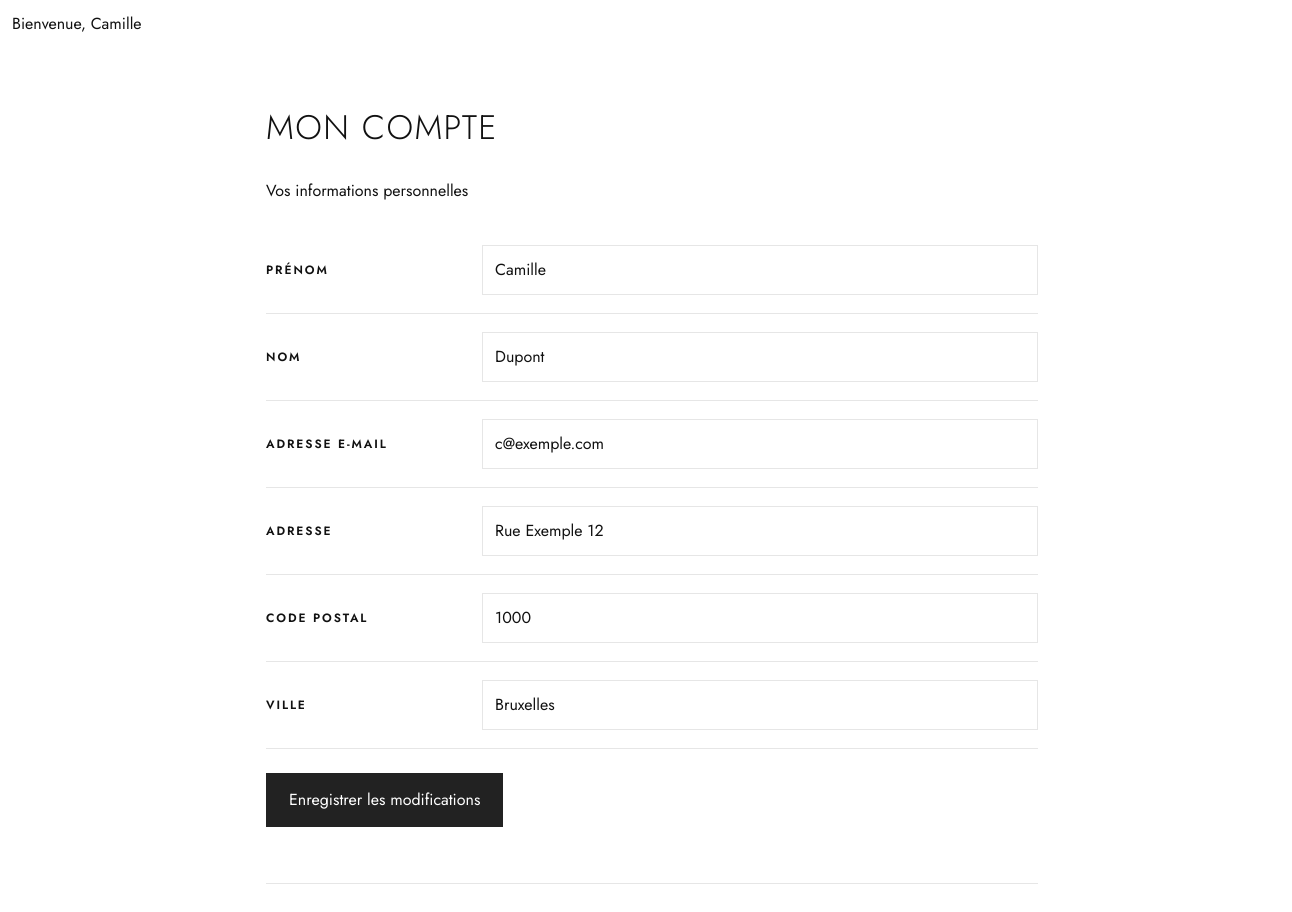
US6 › garde les modifications après une erreur et permet de réessayer
Replace the text in the field labelled "Ville" with "Gand". click: x=760, y=705
box: [482,680,1038,730]
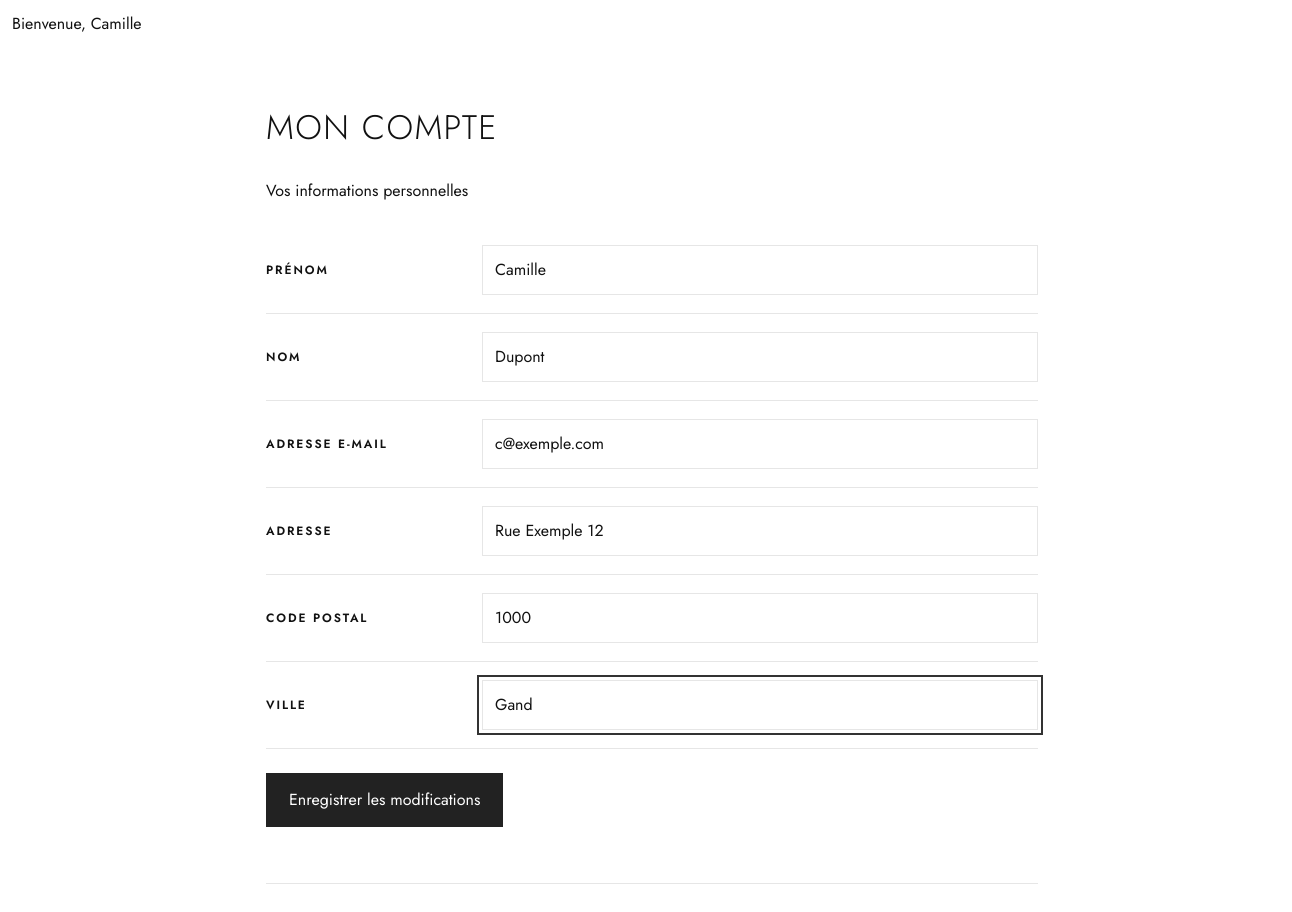
Click the button "Enregistrer les modifications". click: x=385, y=800
box: [266,773,503,827]
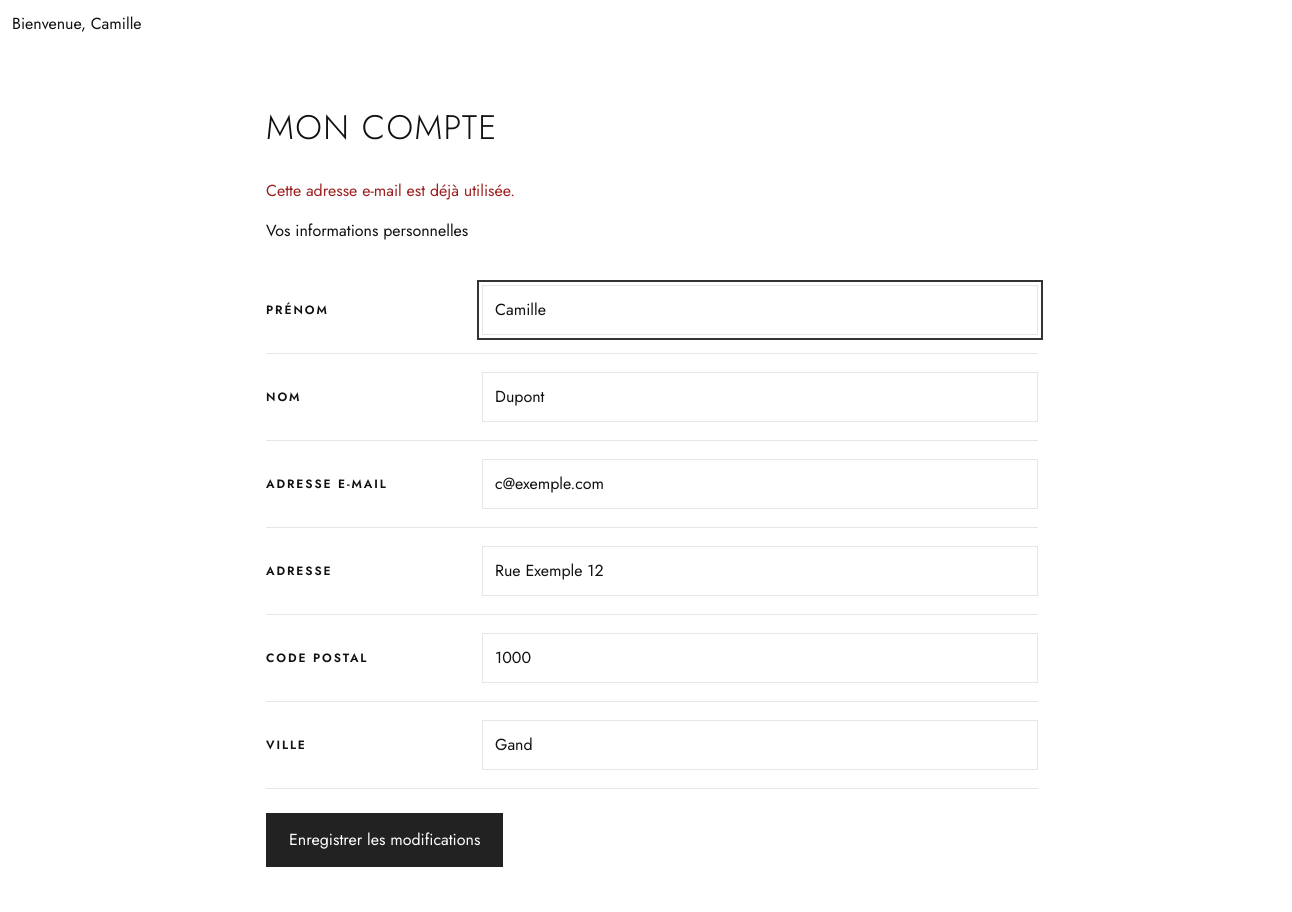
Expected: the button "Enregistrer les modifications" is enabled, [266,813,503,867]
Expected: the message shows "déjà utilisée", [266,179,515,202]
